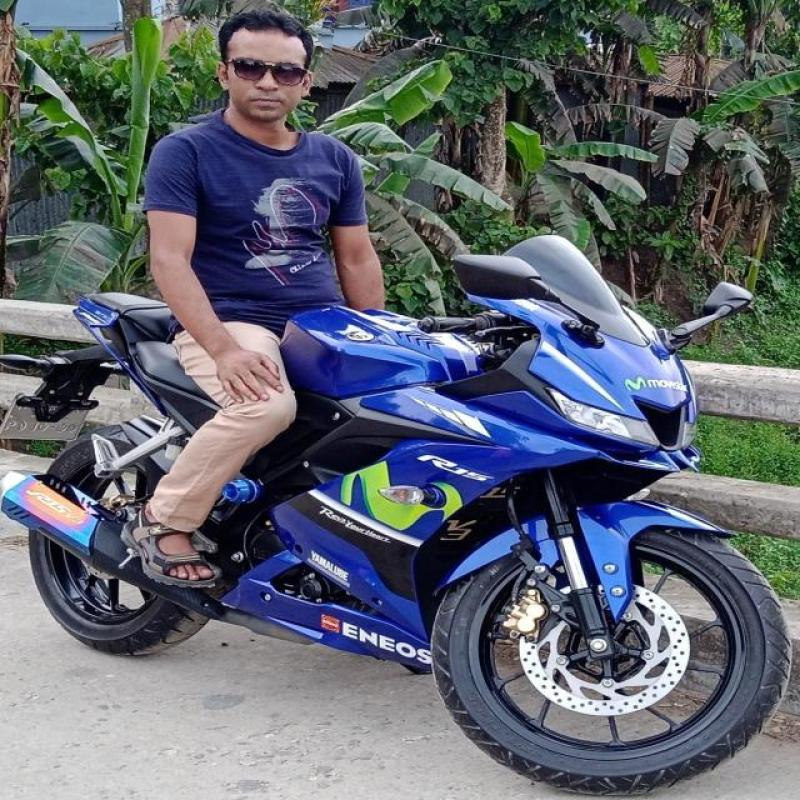nohelmet: (192, 1, 334, 132)
